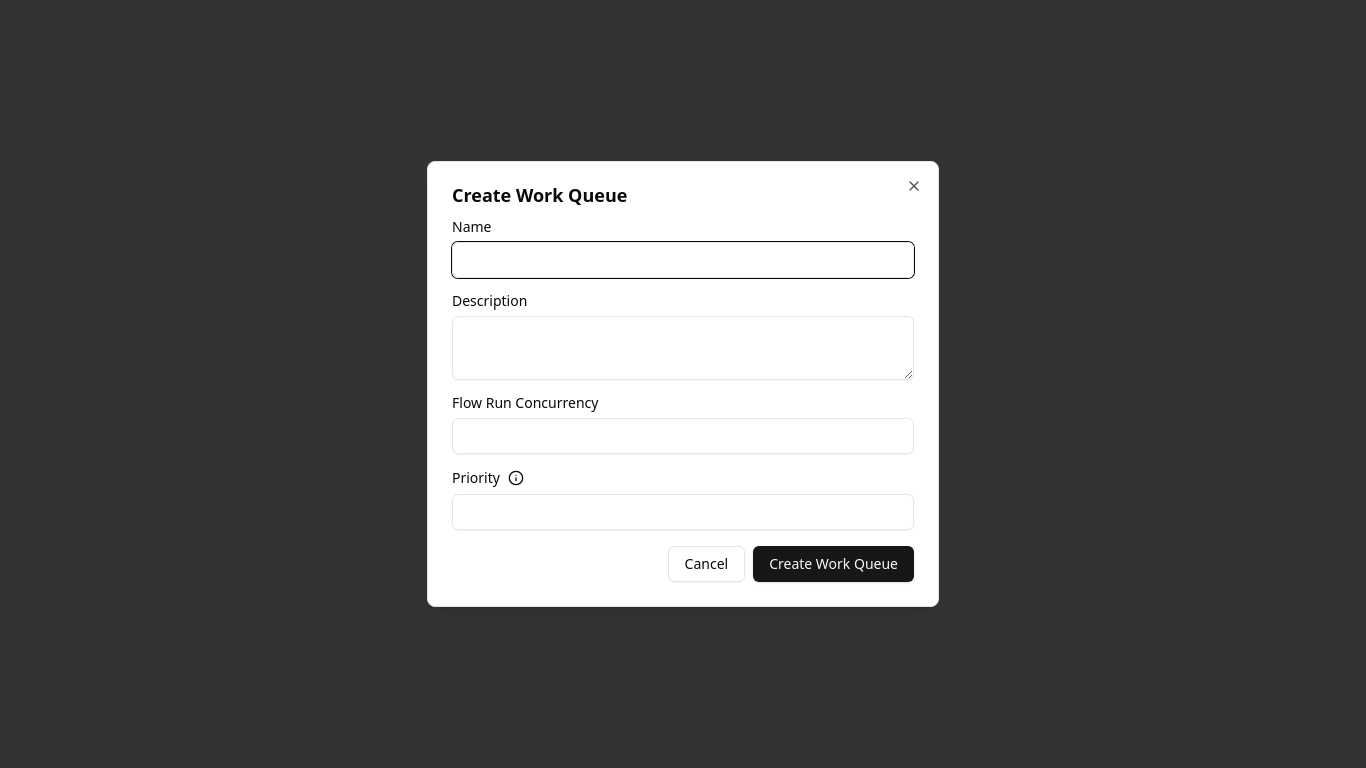
Scenario: WorkPoolQueueCreateDialog › shows validation error for invalid name characters
Type "invalid name with spaces" into the field labelled "Name" at (683, 260), box x1=452 y1=242 x2=914 y2=278
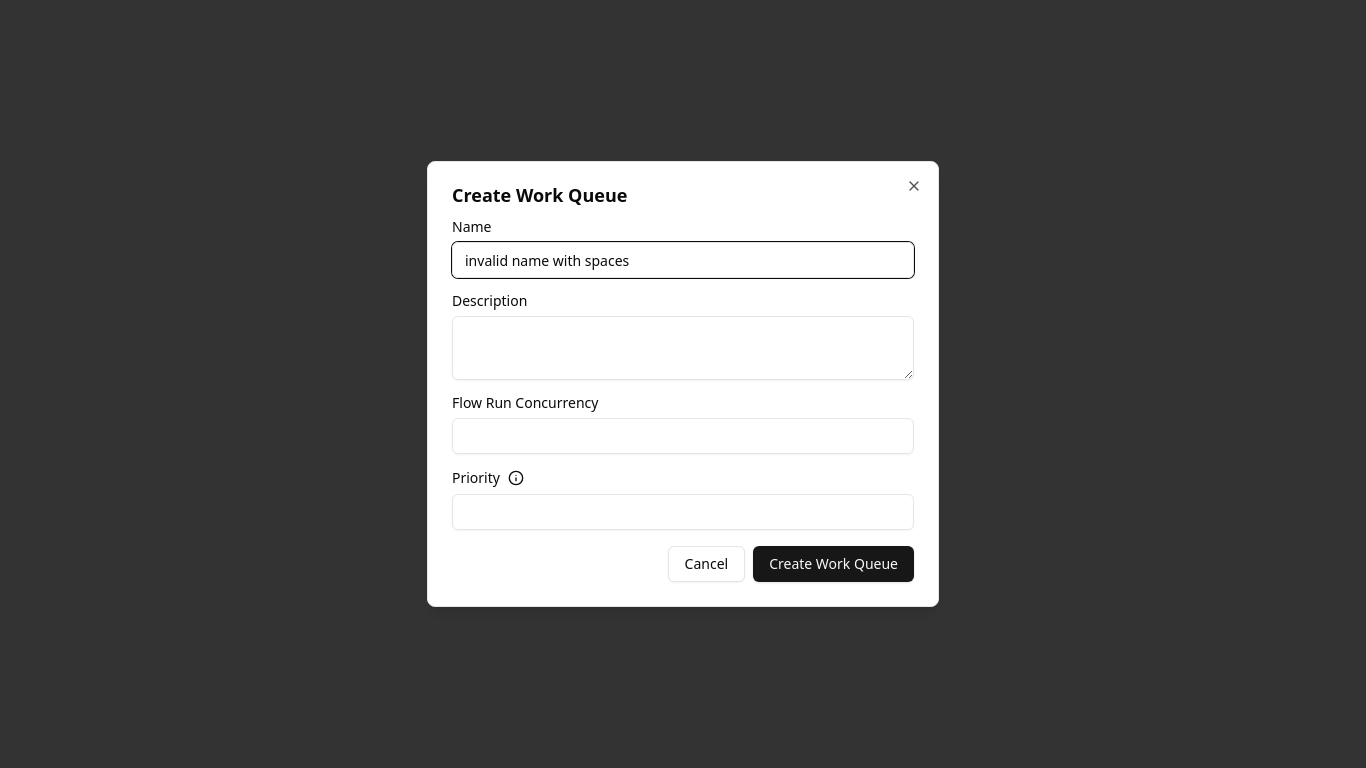
Click the button "Create Work Queue" at (834, 564), box x1=753 y1=546 x2=914 y2=582
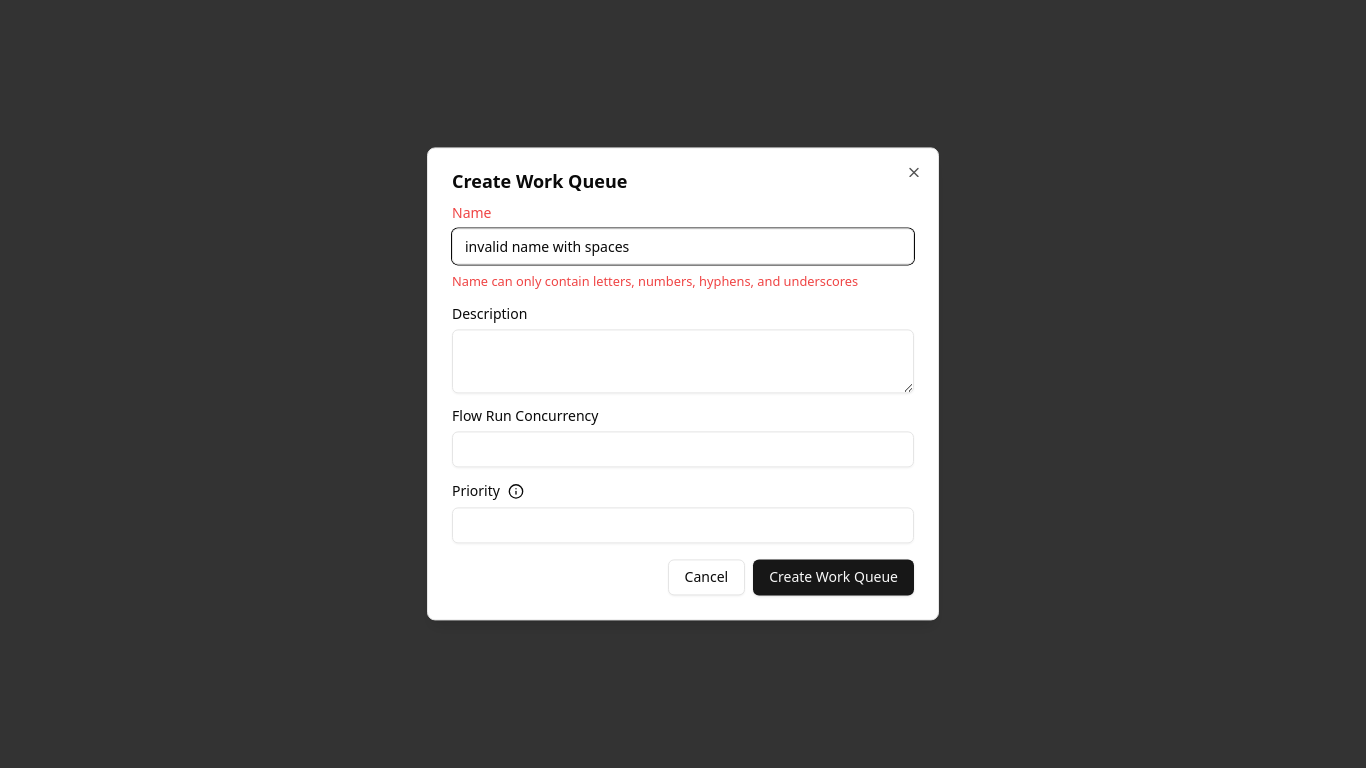
Check: the text "Name can only contain letters, numbers, hyphens, and underscores" is shown, box x1=452 y1=272 x2=914 y2=292
